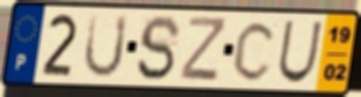2: (40, 13, 78, 79)
C: (231, 19, 280, 84)
S: (134, 13, 183, 83)
U: (81, 12, 131, 80), (275, 19, 325, 86)
Z: (178, 15, 229, 84)
